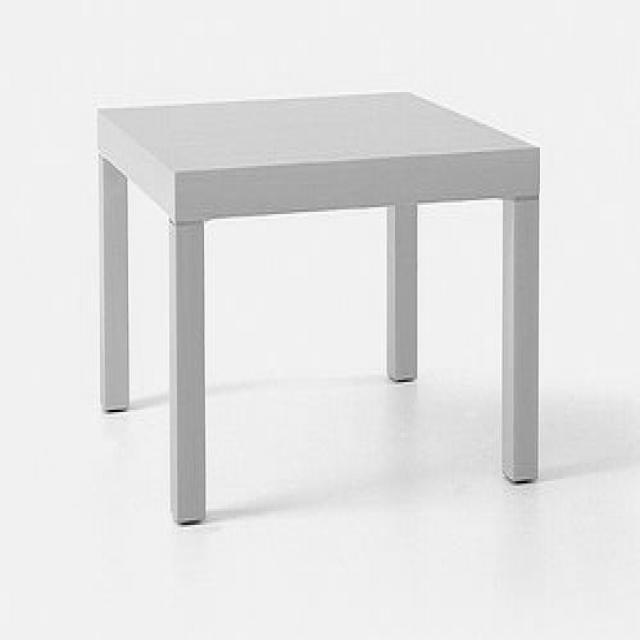table: (96, 91, 542, 527)
